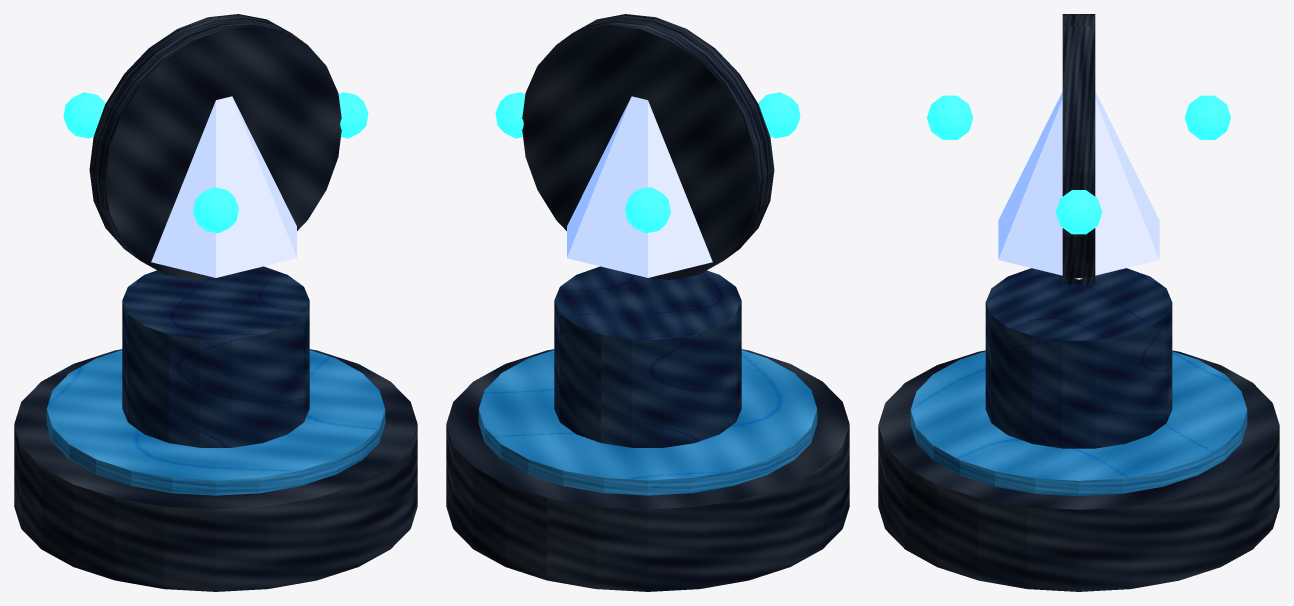
File: 06_AuroraPrism.glb
3 views of the same model, side by side, from view 1: azimuth 30°, elevation 25°; view 2: azimuth 150°, elevation 25°; view 3: azimuth 270°, elevation 25° (orthographic).
Visible parts, largest first — view 1: Stand_Base.005, Head_PrismFrame, Stand_Pedestal.005, Stand_IceRing.005, Head_AuroraPrism, Head_EnergyOrb.002, Head_EnergyOrb.001, Head_EnergyOrb; view 2: Stand_Base.005, Head_PrismFrame, Stand_Pedestal.005, Stand_IceRing.005, Head_AuroraPrism, Head_EnergyOrb.001, Head_EnergyOrb.002, Head_EnergyOrb; view 3: Stand_Base.005, Stand_Pedestal.005, Stand_IceRing.005, Head_AuroraPrism, Head_PrismFrame, Head_EnergyOrb, Head_EnergyOrb.001, Head_EnergyOrb.002.
Boxes of the visible parts, bbox=[...] form: Stand_Base.005: bbox=[14, 349, 417, 591]; Head_PrismFrame: bbox=[89, 14, 341, 279]; Stand_Pedestal.005: bbox=[122, 266, 309, 447]; Stand_IceRing.005: bbox=[46, 350, 385, 495]; Head_AuroraPrism: bbox=[135, 96, 296, 277]; Head_EnergyOrb.002: bbox=[193, 187, 238, 233]; Head_EnergyOrb.001: bbox=[63, 92, 105, 138]; Head_EnergyOrb: bbox=[338, 92, 368, 138]; Stand_Base.005: bbox=[446, 349, 849, 591]; Head_PrismFrame: bbox=[522, 14, 774, 279]; Stand_Pedestal.005: bbox=[554, 266, 741, 447]; Stand_IceRing.005: bbox=[478, 350, 817, 495]; Head_AuroraPrism: bbox=[567, 96, 728, 277]; Head_EnergyOrb.001: bbox=[625, 187, 670, 233]; Head_EnergyOrb.002: bbox=[758, 92, 800, 138]; Head_EnergyOrb: bbox=[495, 92, 525, 138]; Stand_Base.005: bbox=[878, 350, 1279, 591]; Stand_Pedestal.005: bbox=[985, 268, 1172, 448]; Stand_IceRing.005: bbox=[910, 351, 1247, 496]; Head_AuroraPrism: bbox=[998, 92, 1159, 279]; Head_PrismFrame: bbox=[1062, 14, 1095, 284]; Head_EnergyOrb: bbox=[1055, 190, 1102, 234]; Head_EnergyOrb.001: bbox=[1184, 95, 1230, 139]; Head_EnergyOrb.002: bbox=[927, 95, 973, 139].
Size of the model in its own units: 3.1 by 4.1 by 3.1.
5 materials, 3 textured.
